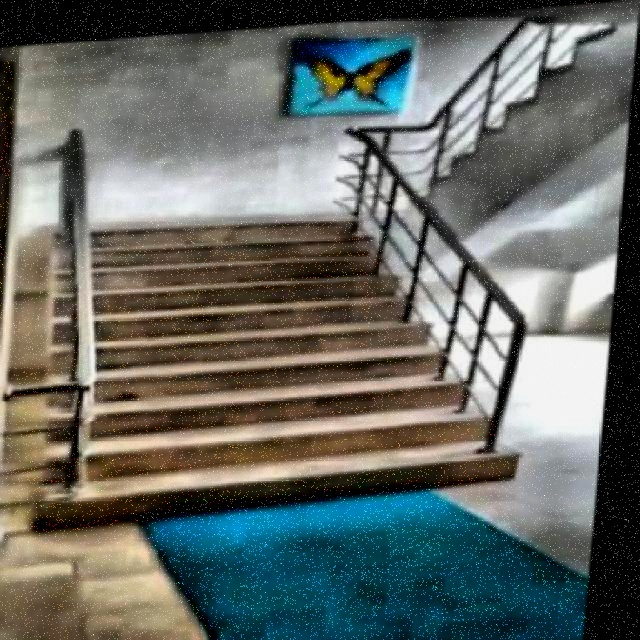stair: (34, 194, 537, 525)
